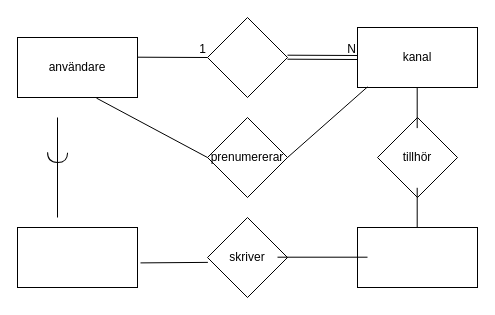
This 495x315 diagram has some shape labels left out. Each missing label, with the centre of its shape:
"meddelande" belongs at point 417,257.
"prenumerant" belongs at point 77,257.
"äger" belongs at point 247,57.
